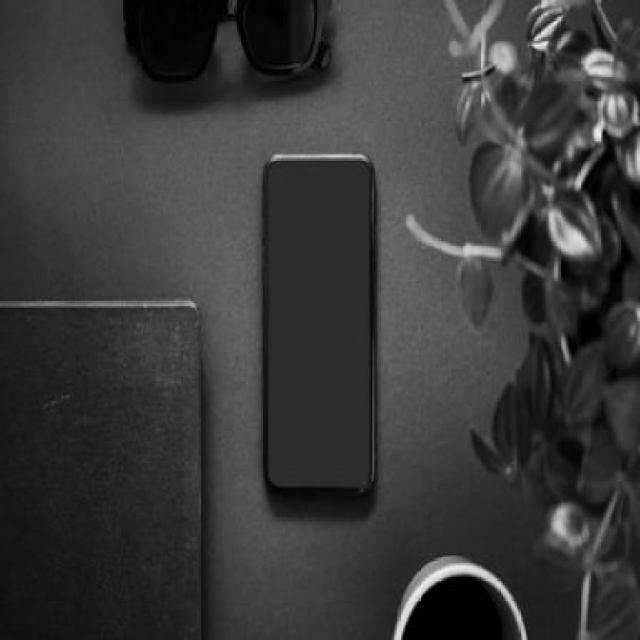fake: (262, 148, 378, 503)
